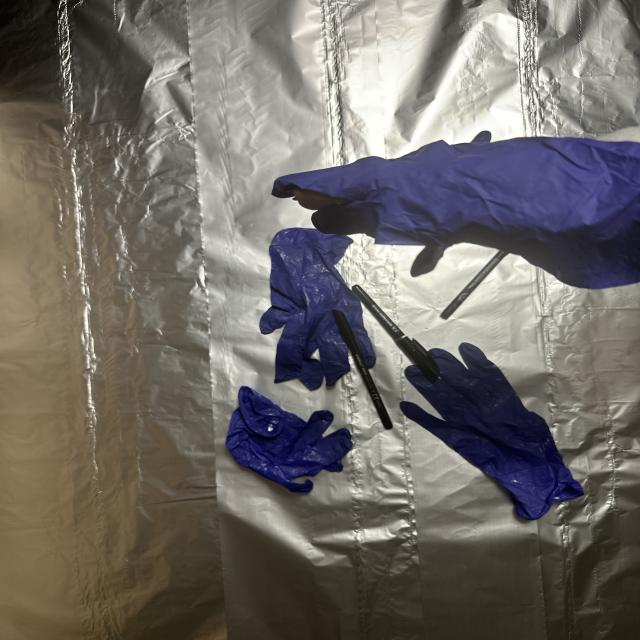glove_not_fitted: (270, 132, 640, 285)
